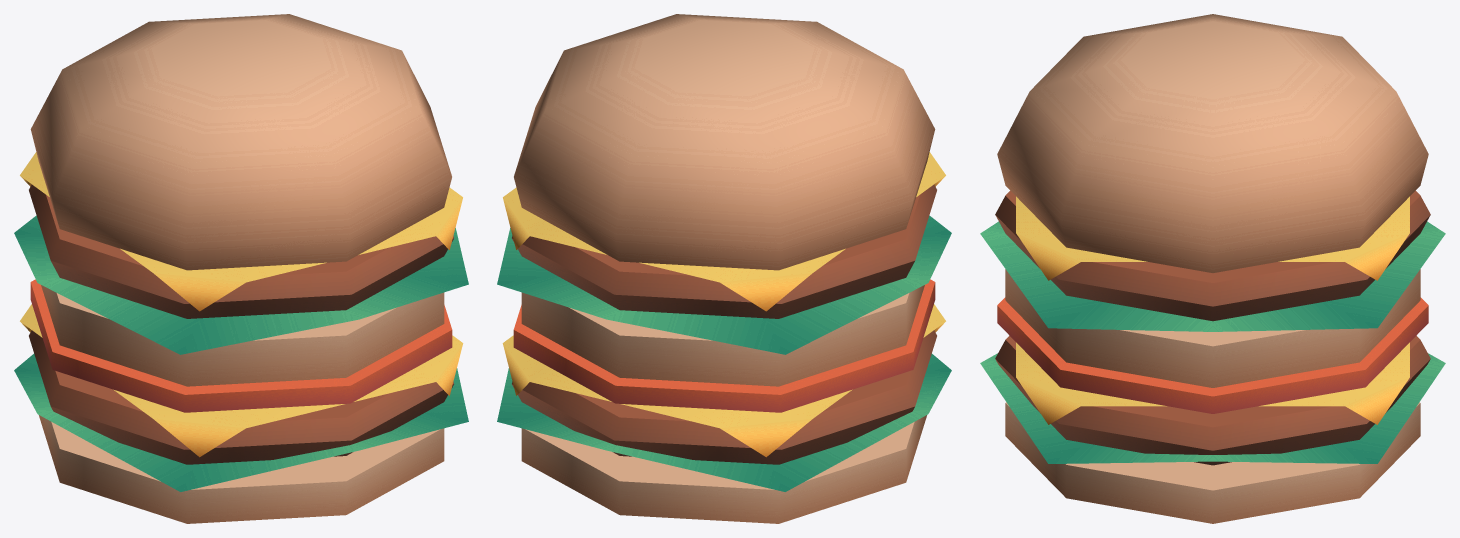
The model's file is burger-double.glb.
The picture shows the model from 3 angles, left to right: view 1: azimuth 30°, elevation 25°; view 2: azimuth 150°, elevation 25°; view 3: azimuth 270°, elevation 25°; orthographic projection.
Parts seen in each view (by area): view 1: bun-top, patty (×2), salad (×2), bun-bottom, bun-middle, cheese (×2), tomato; view 2: bun-top, patty (×2), salad (×2), bun-bottom, bun-middle, cheese (×2), tomato; view 3: bun-top, patty (×2), salad (×2), bun-bottom, bun-middle, tomato, cheese (×2).
Part boxes in pixels (box(x1,y1,x2,y2)): bun-top: box(30, 14, 451, 270); patty (×2): box(29, 184, 453, 464); salad (×2): box(14, 215, 468, 491); bun-bottom: box(39, 415, 444, 523); bun-middle: box(41, 285, 444, 386); cheese (×2): box(20, 152, 463, 457); tomato: box(30, 279, 452, 412); bun-top: box(514, 14, 935, 270); patty (×2): box(512, 184, 936, 464); salad (×2): box(497, 215, 951, 491); bun-bottom: box(521, 415, 926, 523); bun-middle: box(521, 285, 924, 386); cheese (×2): box(502, 152, 945, 457); tomato: box(513, 279, 935, 412); bun-top: box(997, 14, 1428, 272); patty (×2): box(995, 190, 1430, 465); salad (×2): box(980, 221, 1445, 463); bun-bottom: box(1005, 402, 1420, 523); bun-middle: box(1005, 269, 1420, 387); tomato: box(997, 297, 1428, 413); cheese (×2): box(1016, 196, 1409, 424).
Size of the model in its own units: 0.4041 by 0.36 by 0.4041.
Materials: 1 (1 with a texture image).
